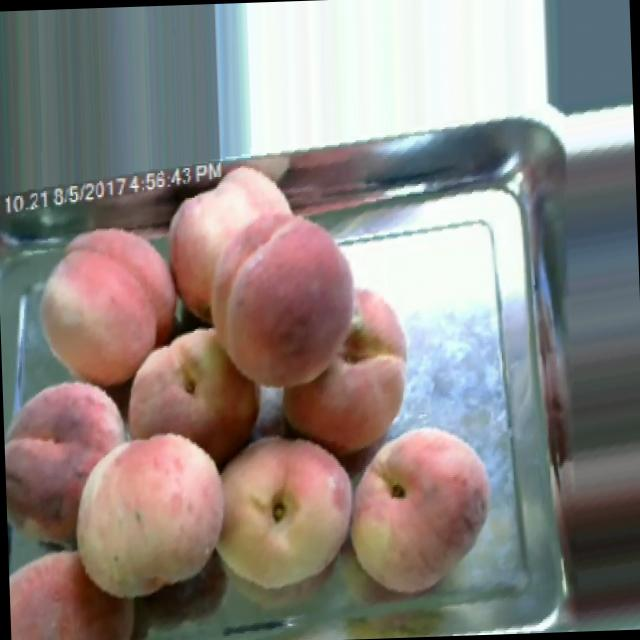Fruit: (168, 193, 374, 408), (46, 409, 232, 622), (332, 413, 504, 608), (264, 271, 422, 468), (205, 414, 365, 606), (26, 216, 192, 400)
